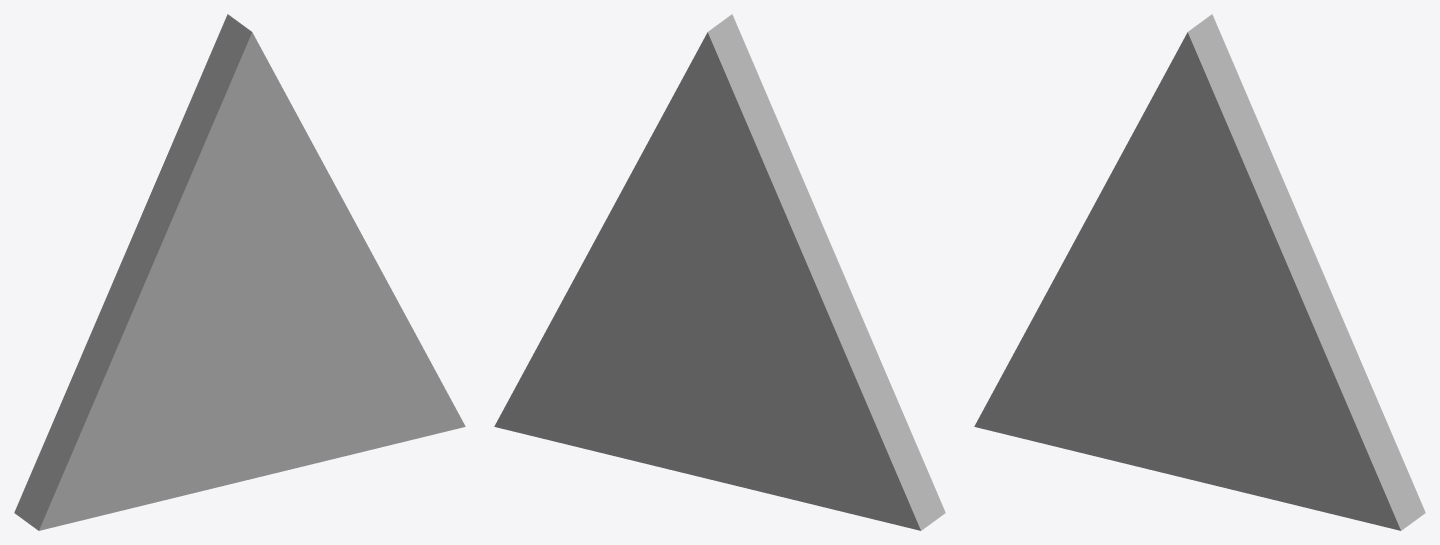
File: Triangle3D.fbx
3 views of the same model, side by side, from view 1: azimuth 30°, elevation 25°; view 2: azimuth 150°, elevation 25°; view 3: azimuth 330°, elevation 25° (orthographic).
Parts seen in each view (by area): view 1: node_id30; view 2: node_id30; view 3: node_id30.
Part boxes in pixels (x1=…): node_id30: x1=14, y1=14, x2=465, y2=530; node_id30: x1=494, y1=14, x2=945, y2=530; node_id30: x1=974, y1=14, x2=1425, y2=530.
Bounding box in the file's own units: 0.512 × 0.512 × 0.0512.
1 material, 1 textured.
